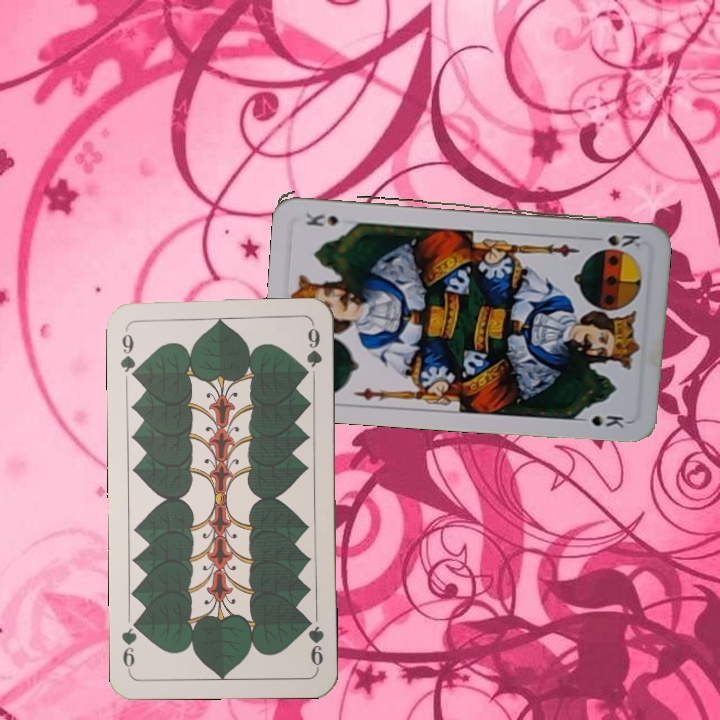G9: (302, 613, 327, 672), (116, 324, 140, 383)
SK: (603, 230, 643, 250)
